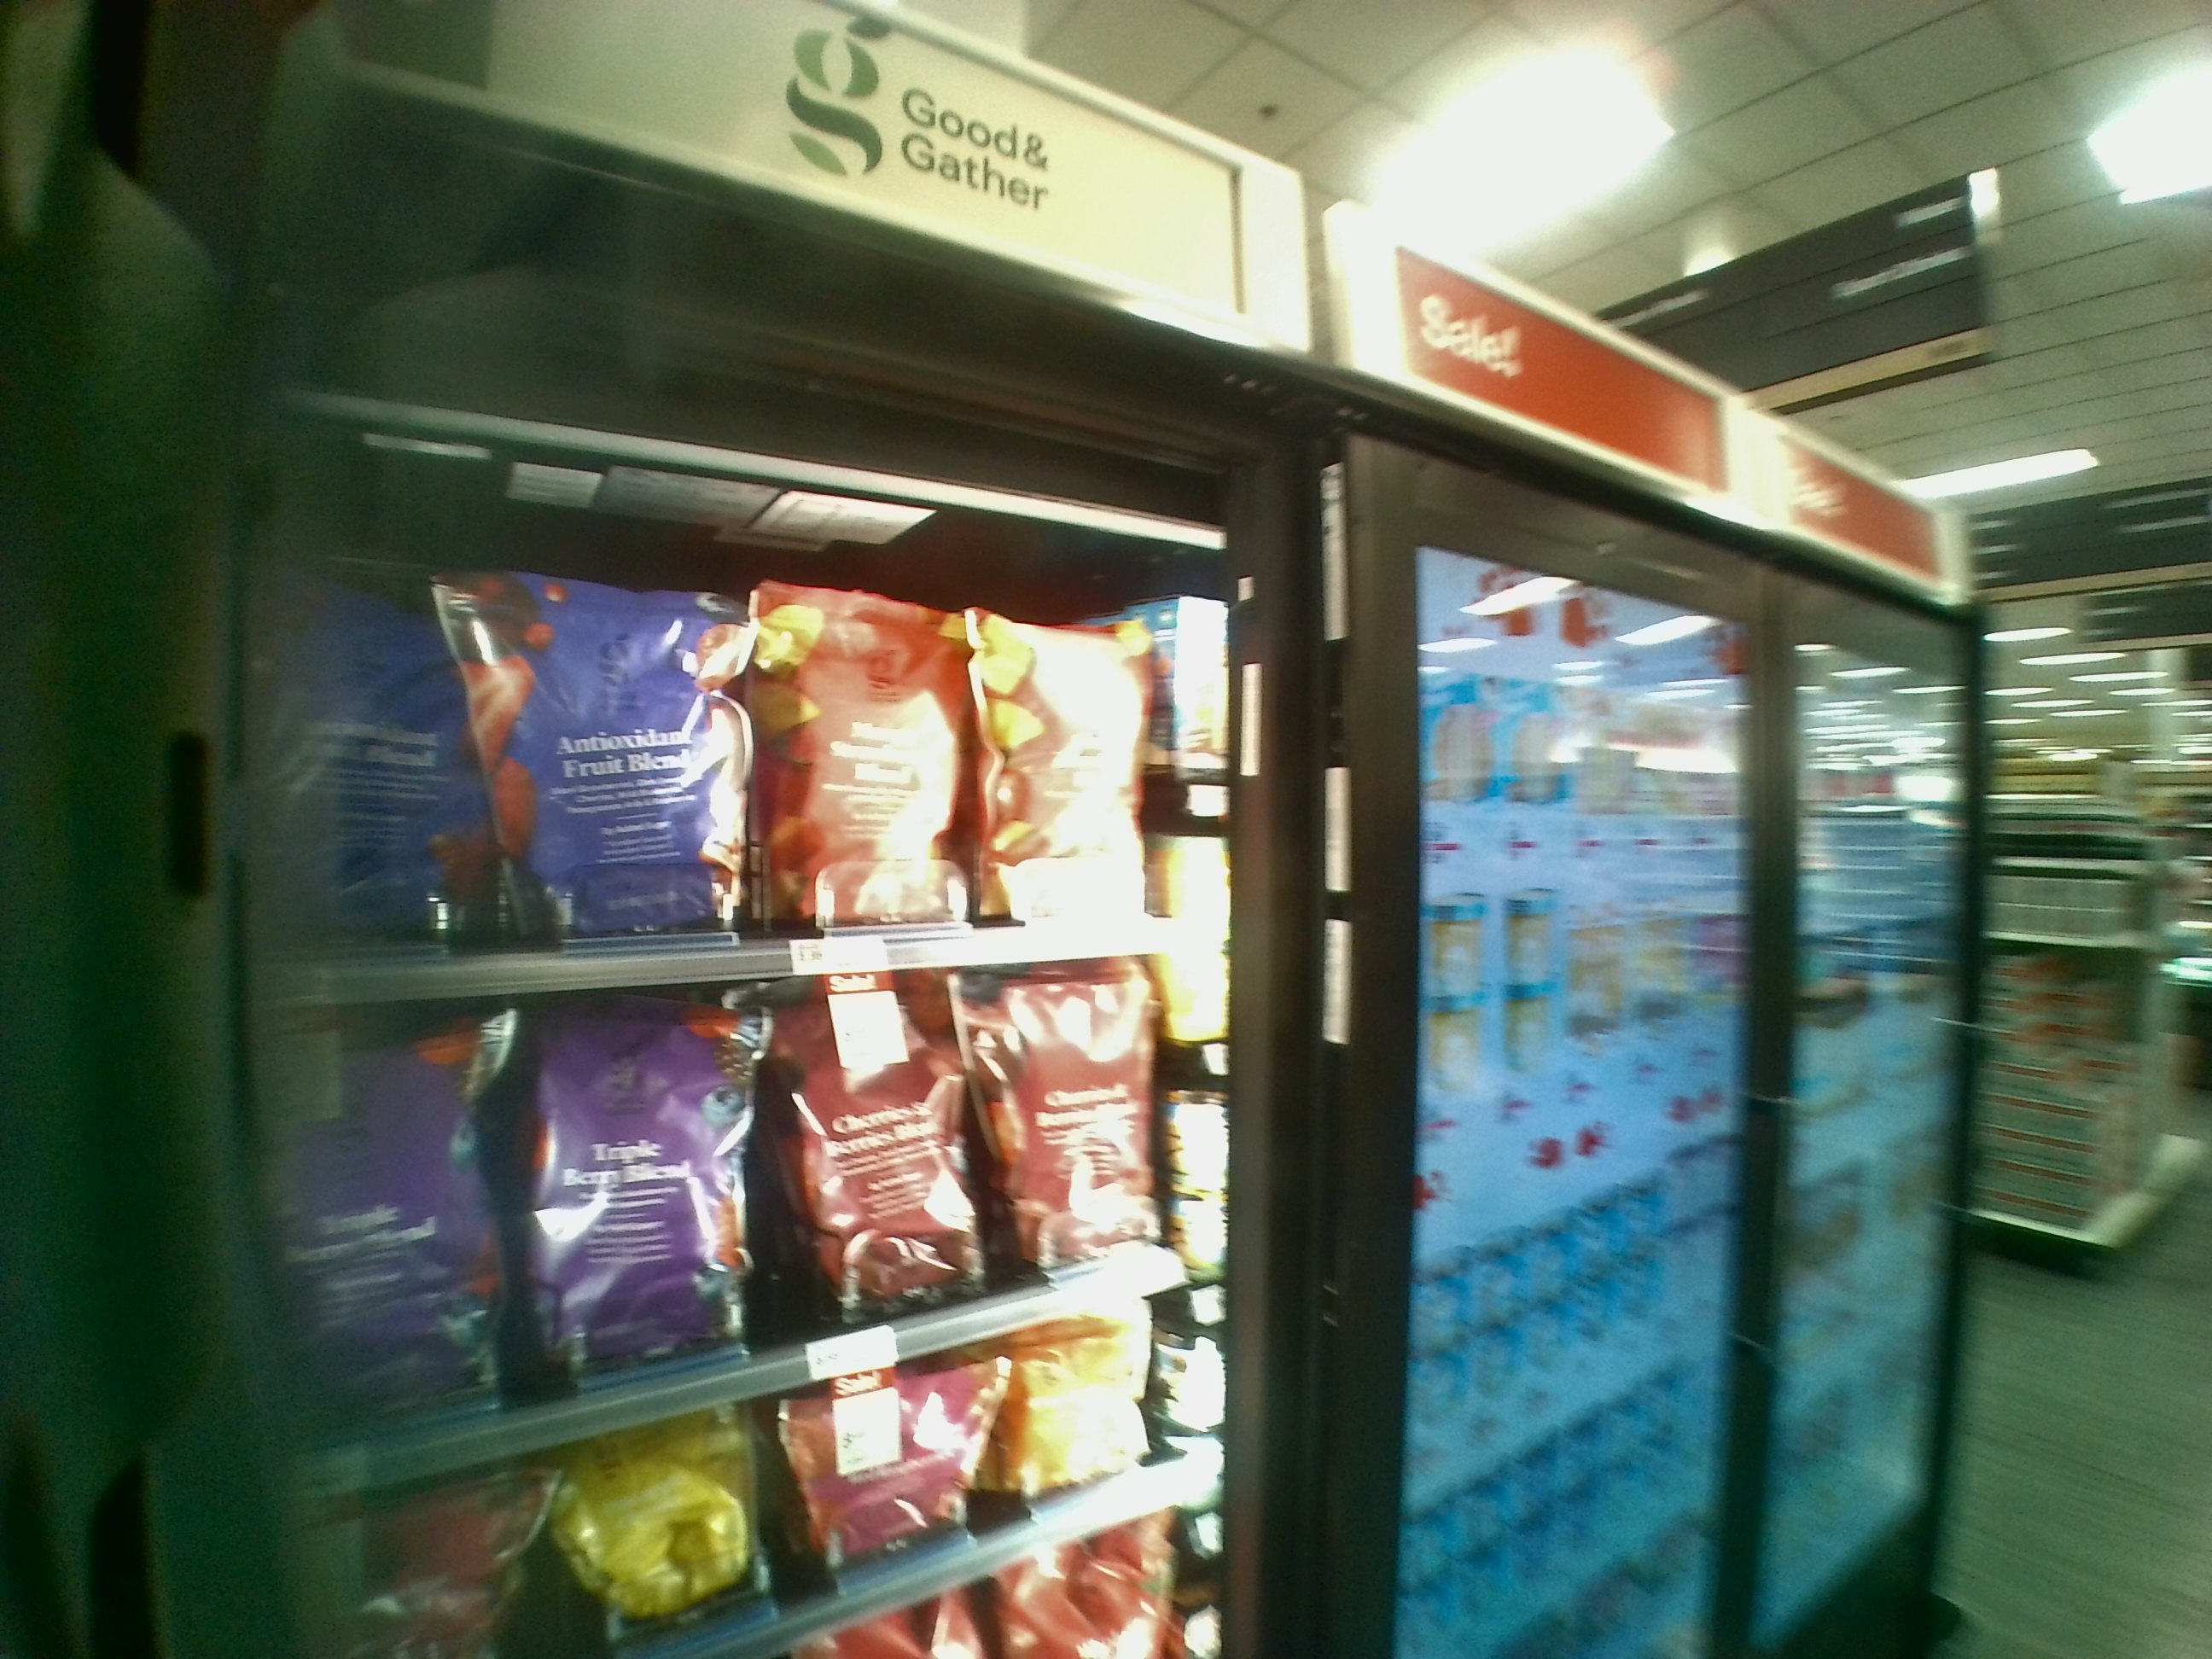shelf: (272, 498, 1205, 990), (270, 993, 1223, 1398)
